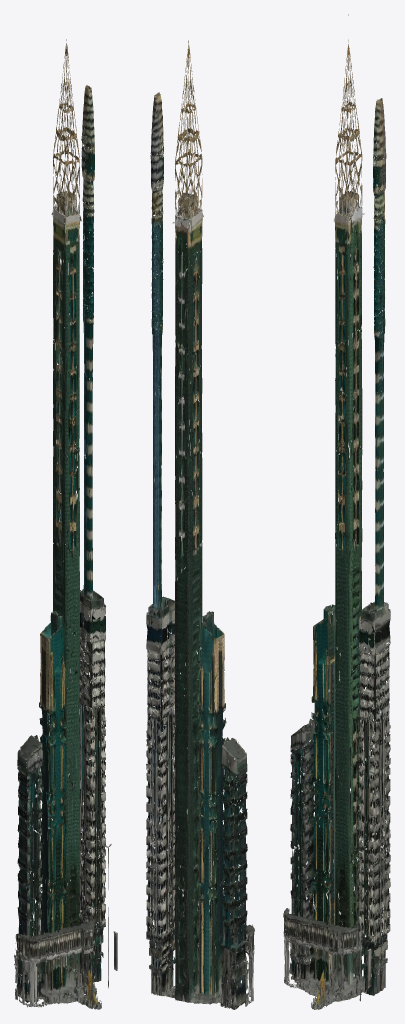
The model's file is gevora-hotel.glb.
The picture shows the model from 3 angles, left to right: view 1: azimuth 30°, elevation 25°; view 2: azimuth 150°, elevation 25°; view 3: azimuth 330°, elevation 25°; orthographic projection.
Visible parts, largest first — view 1: Mesh_0; view 2: Mesh_0; view 3: Mesh_0.
Boxes of the visible parts, x1,y1,x2,y2 form: Mesh_0: (14,39,117,1009); Mesh_0: (146,40,254,1009); Mesh_0: (283,14,390,1009).
Bounding box in the file's own units: 34.85 × 356 × 29.58.
1 material, 1 textured.
